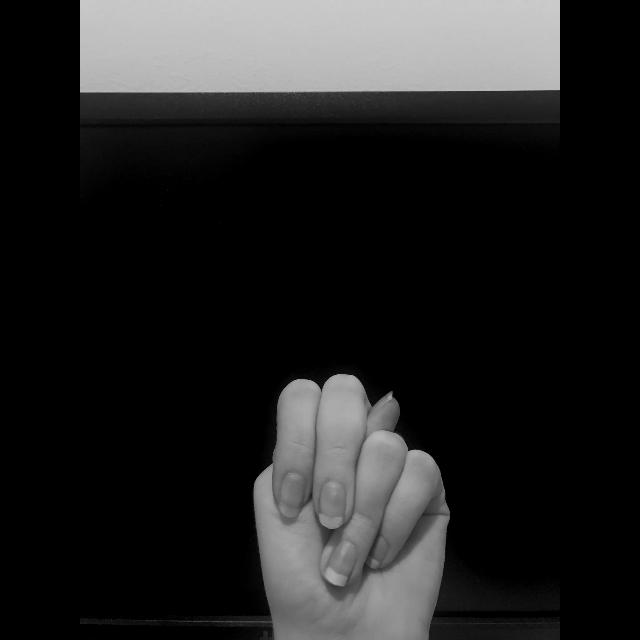N: (246, 368, 457, 640)
